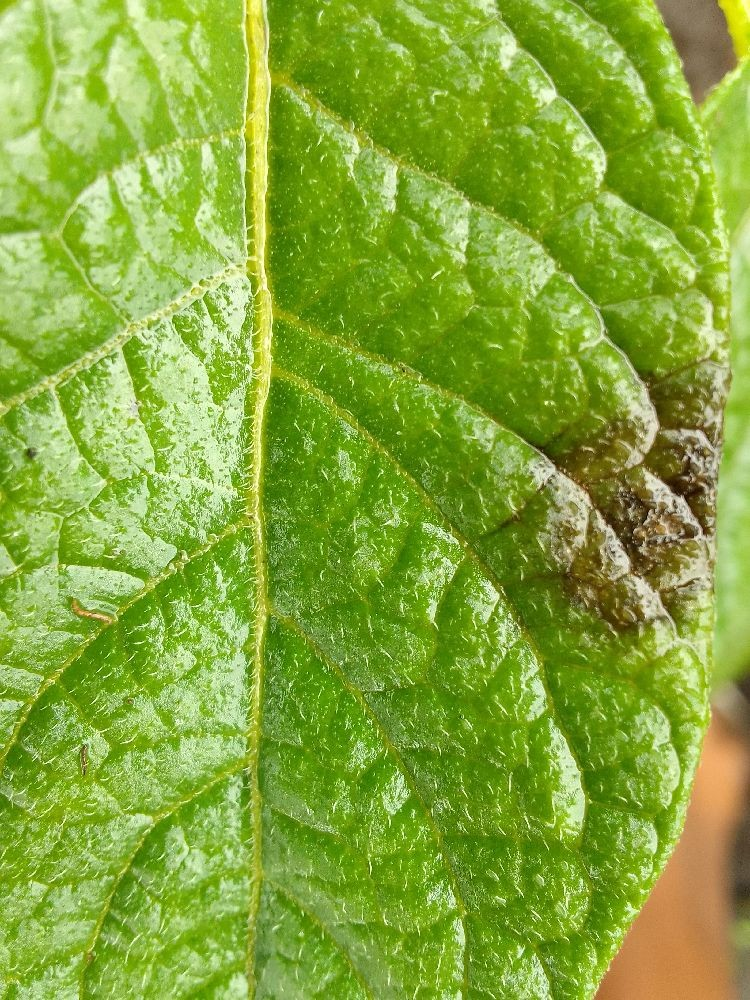late_blight: (552, 624, 750, 1000), (533, 359, 742, 651), (644, 0, 750, 117)
